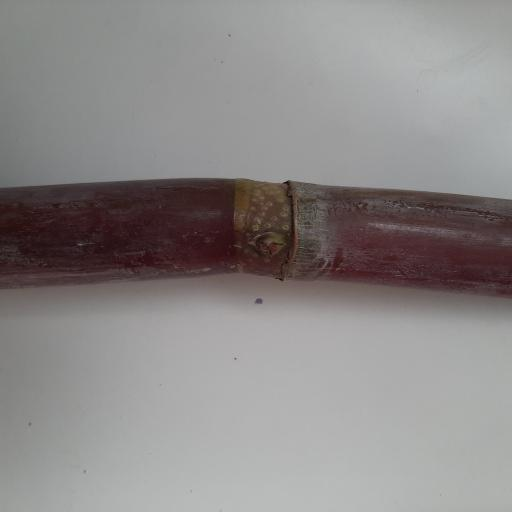Bud: (249, 230, 287, 258)
